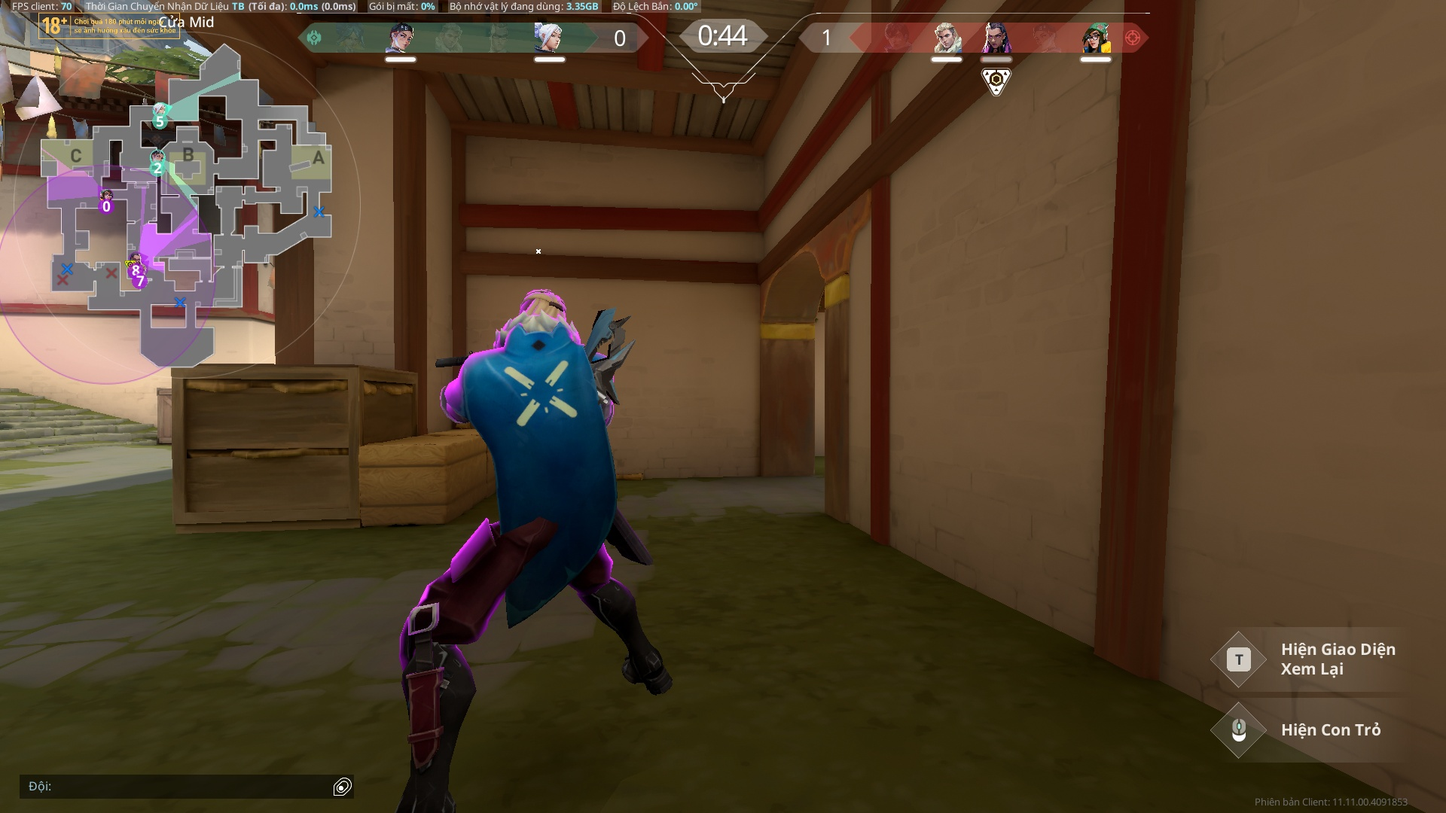body: (443, 332, 624, 468)
head: (517, 282, 569, 341)
